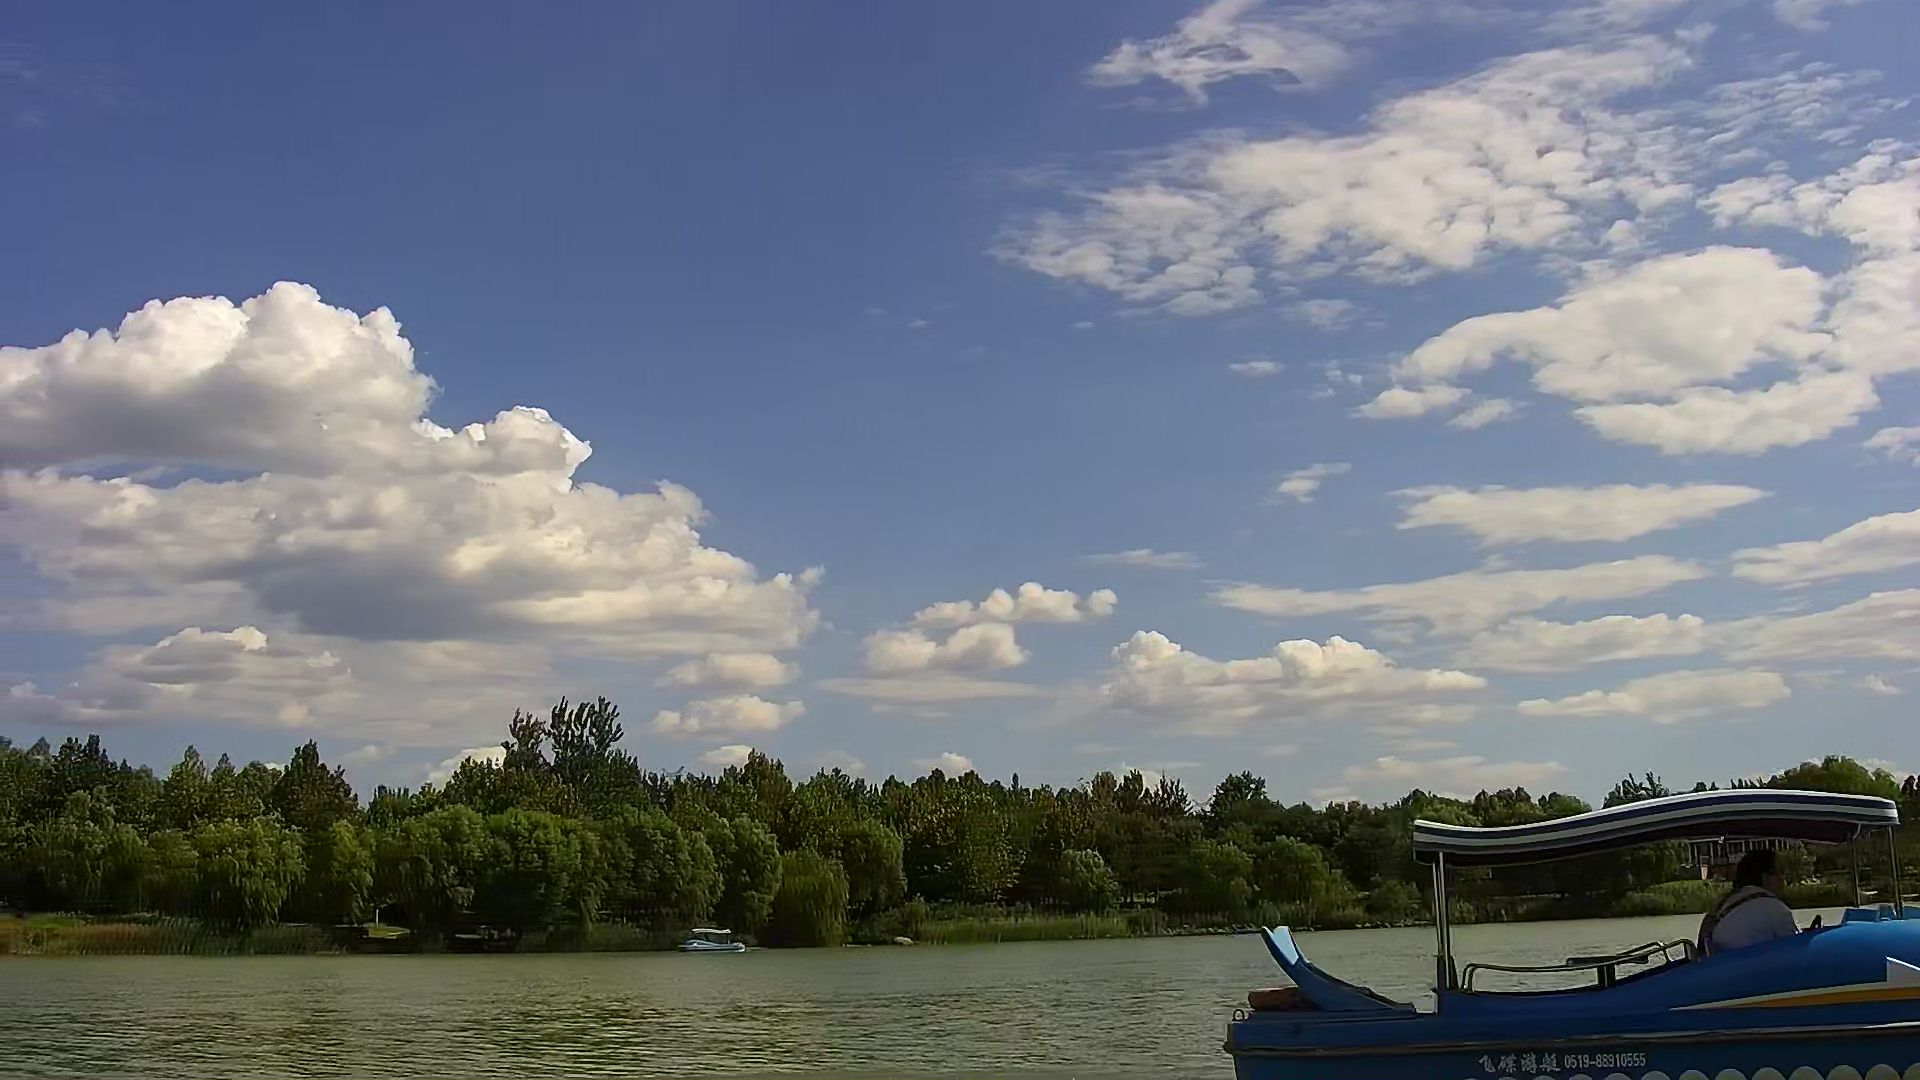boat: (1225, 799, 1920, 1080), (672, 919, 748, 961)
person: (1702, 844, 1806, 950)
